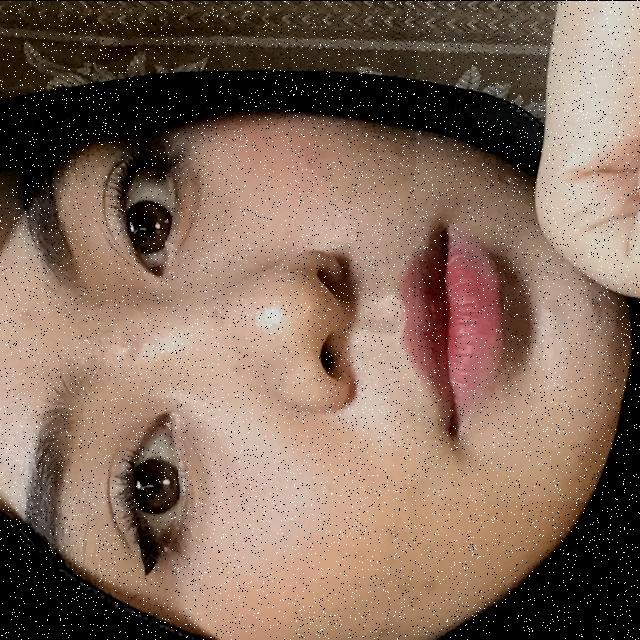sedih: (416, 0, 640, 500)
